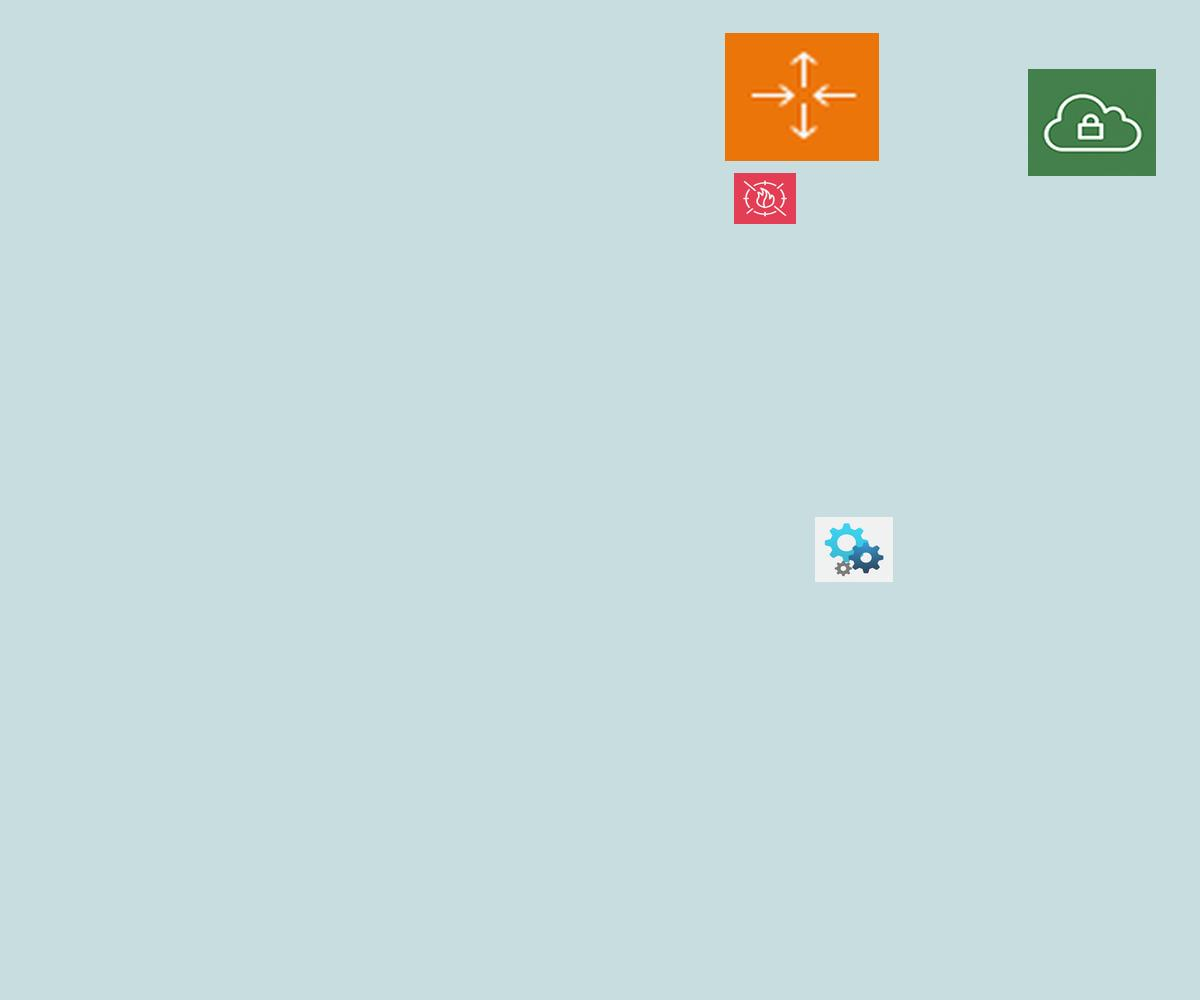AWS-Private_vpc: (1028, 69, 1156, 176)
AWS-Scaling-group: (725, 33, 879, 161)
AWS-WAF: (734, 173, 796, 224)
Azure_api: (815, 517, 893, 582)
